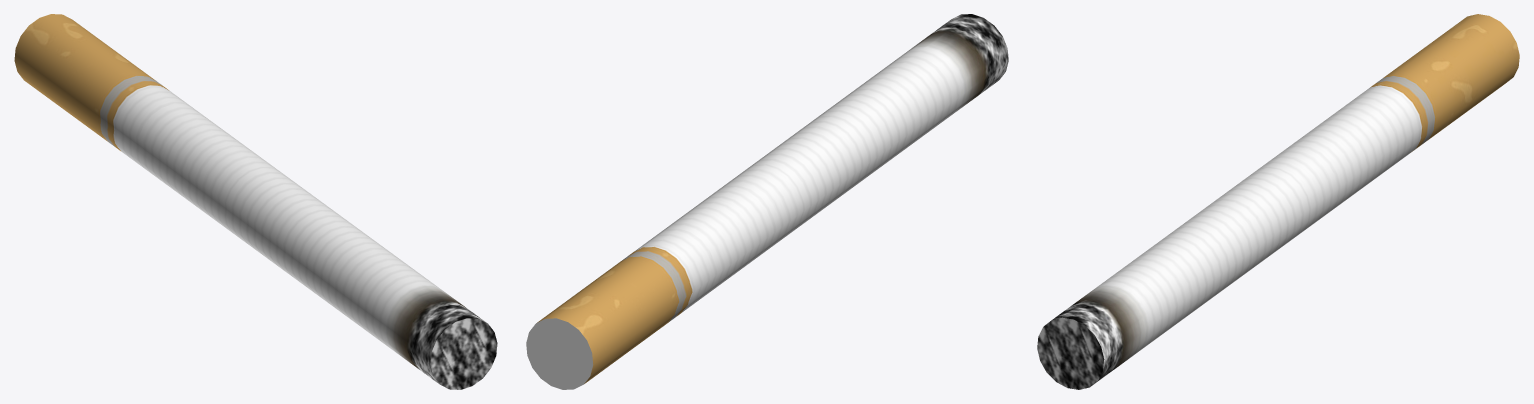
Rendered from Cigarette.FBX.
3 renders of one model, left to right at view 1: azimuth 30°, elevation 25°; view 2: azimuth 150°, elevation 25°; view 3: azimuth 330°, elevation 25°, orthographic.
Parts seen in each view (by area): view 1: cigarette; view 2: cigarette; view 3: cigarette.
Boxes of the visible parts, x1=… form: cigarette: x1=14, y1=14, x2=497, y2=389; cigarette: x1=526, y1=14, x2=1008, y2=389; cigarette: x1=1037, y1=14, x2=1519, y2=389.
Size of the model in its own units: 17.27 by 185 by 17.28.
1 material, 1 textured.
